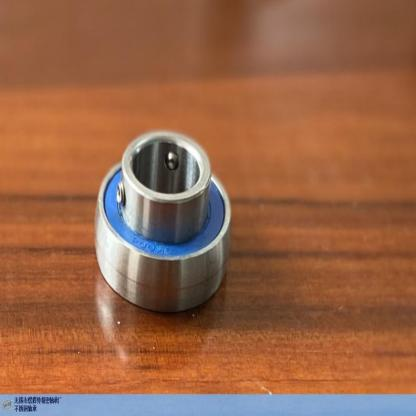FOD: (90, 125, 235, 316)
